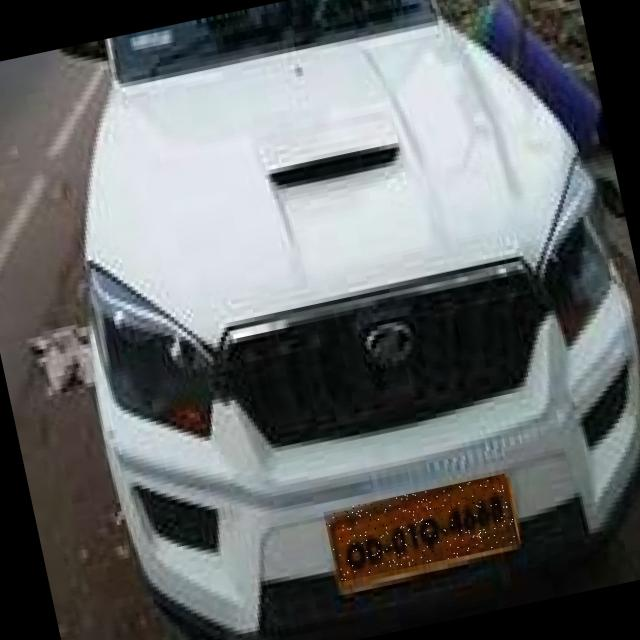Plate: (324, 474, 520, 583)
